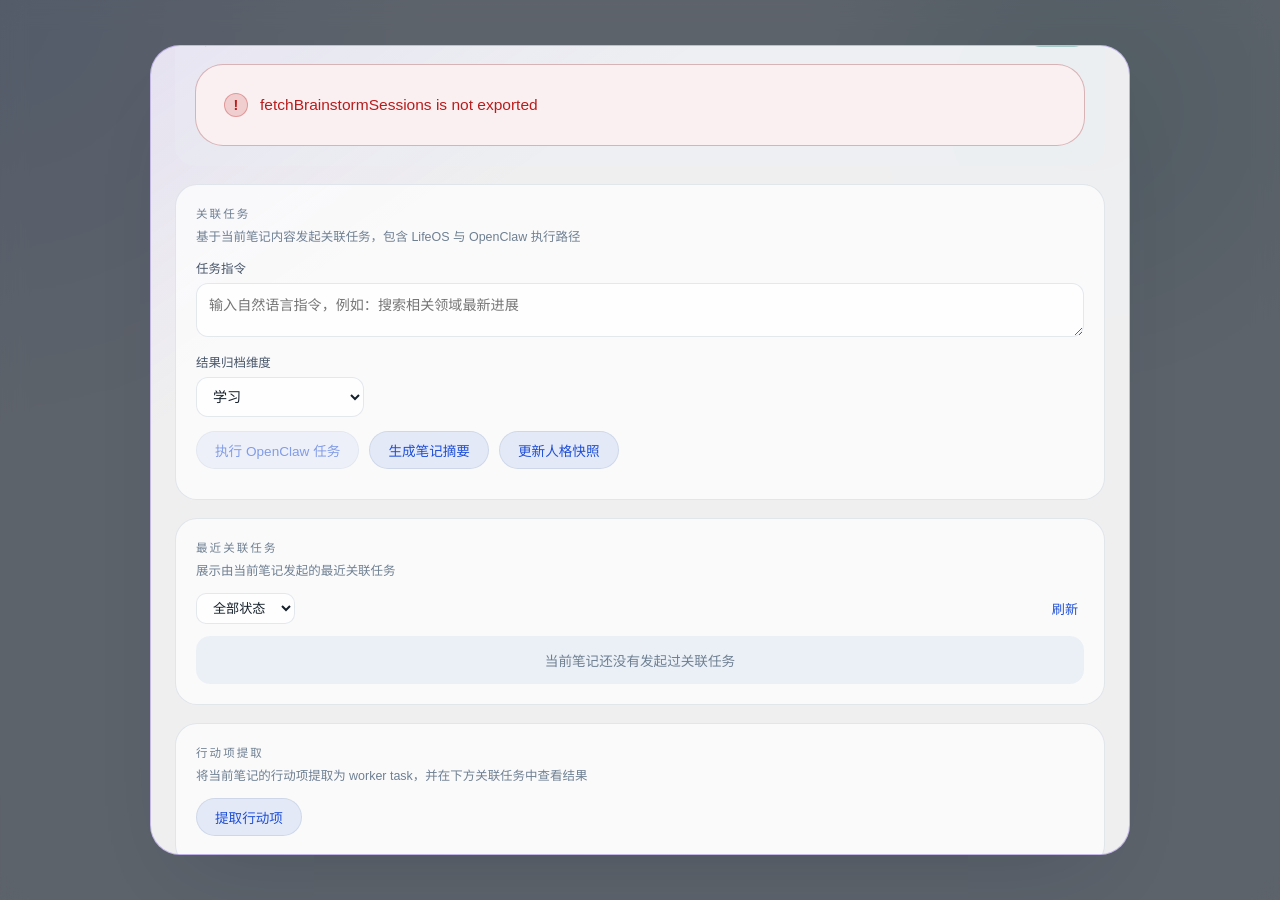
Scenario: NoteDetail › renders localized worker-task metadata after creating summarize task
The width and height of the screenshot is (1280, 900).
(page scrolled)
Click the button "生成笔记摘要".
click(429, 450)  # box [369,431,489,469]
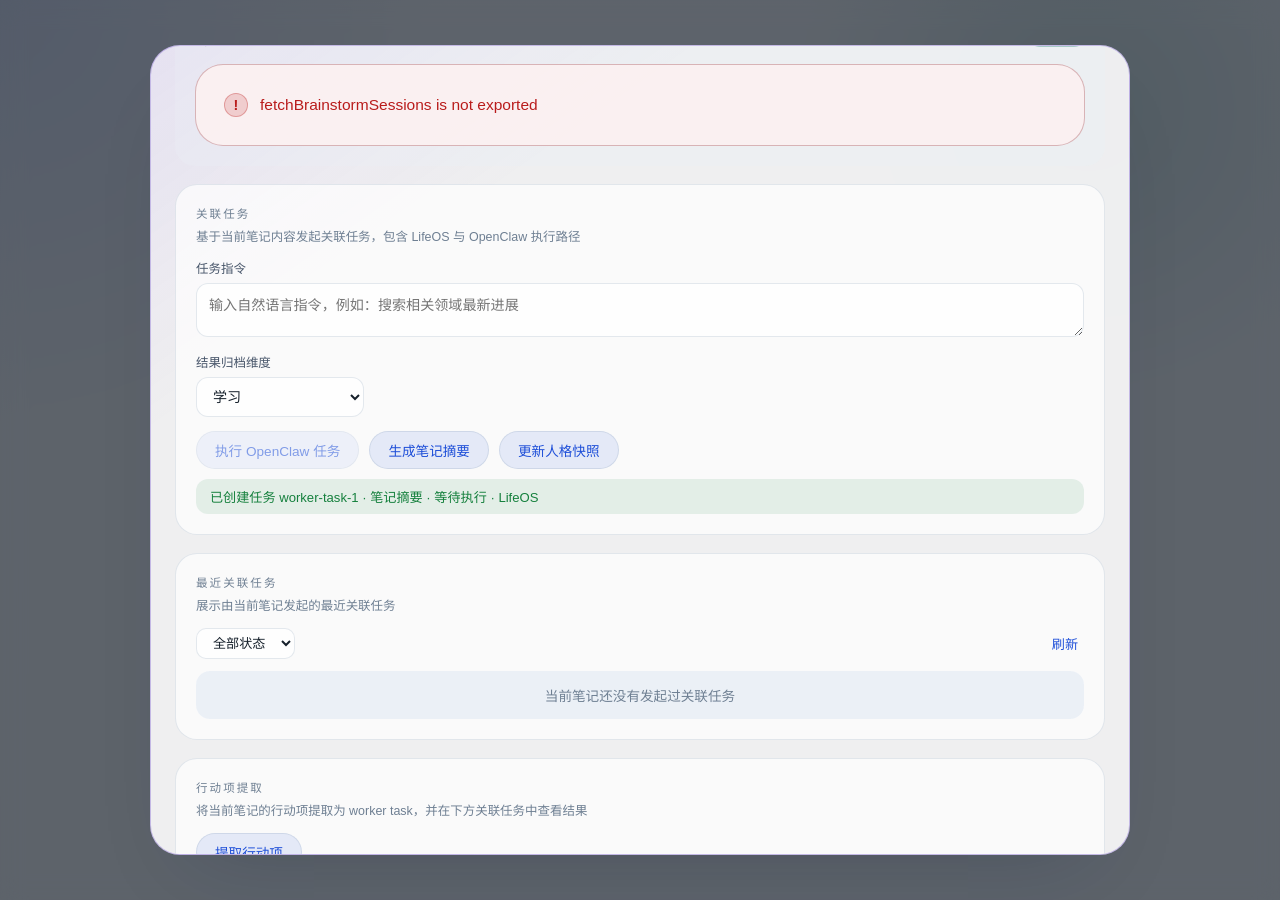
expect the text "已创建任务 worker-task-1 · 笔记摘要 · 等待执行 · LifeOS" is shown: met, box [196,479,1084,514]
